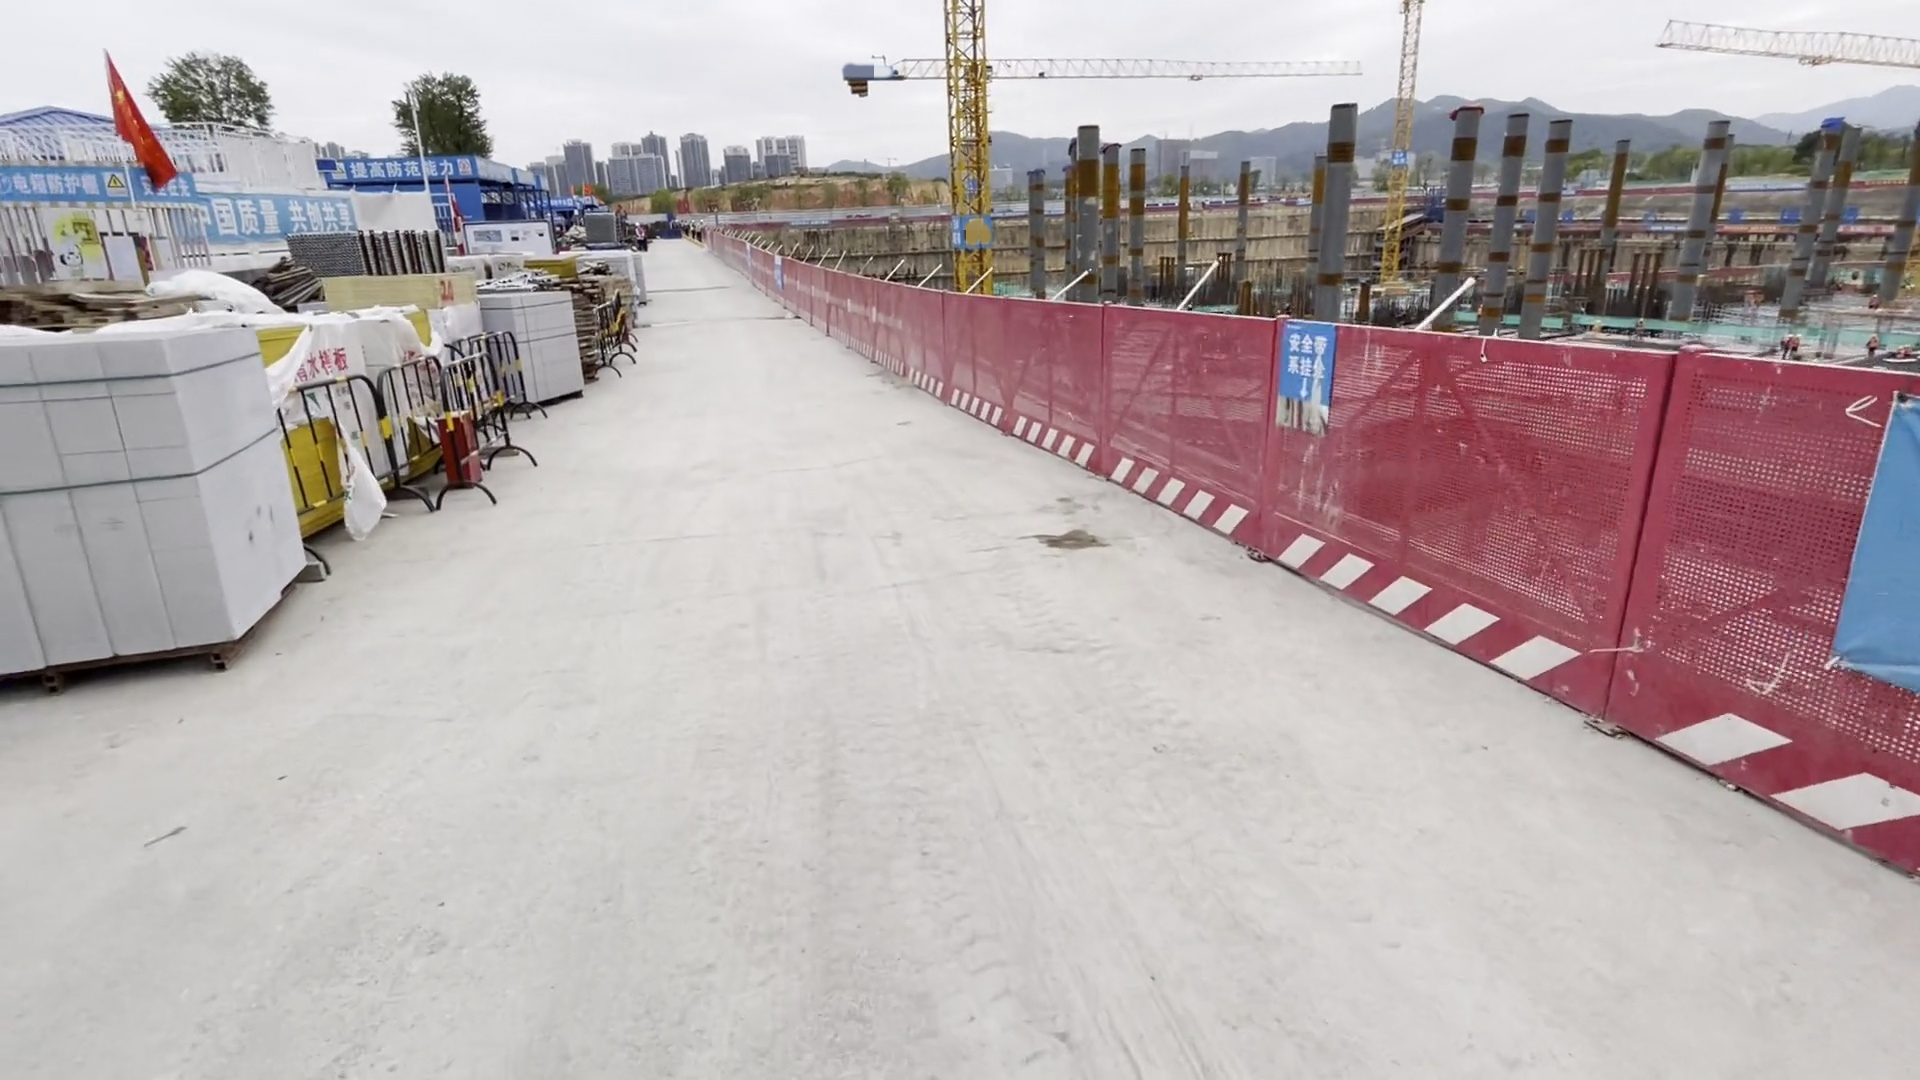brick: (1, 305, 323, 708), (477, 291, 585, 413)
fence: (687, 208, 1920, 865)
slogan: (1, 171, 376, 237), (331, 156, 472, 193), (1276, 324, 1335, 407)
